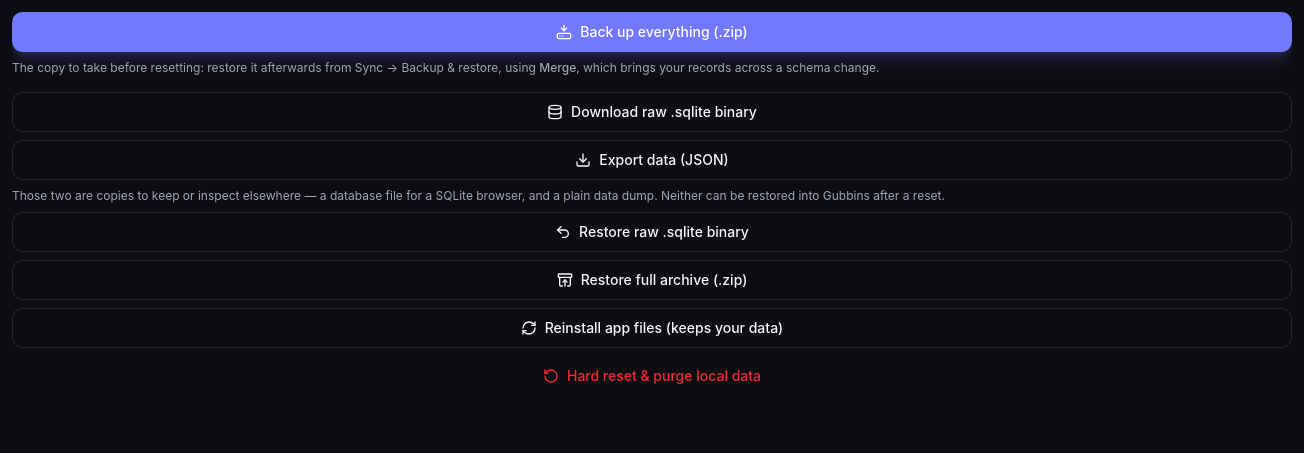
Test case: RescueActions › reports a hard reset that could not complete
Click the button "Hard reset & purge local data".
click(652, 376)  # box [12,356,1292,396]
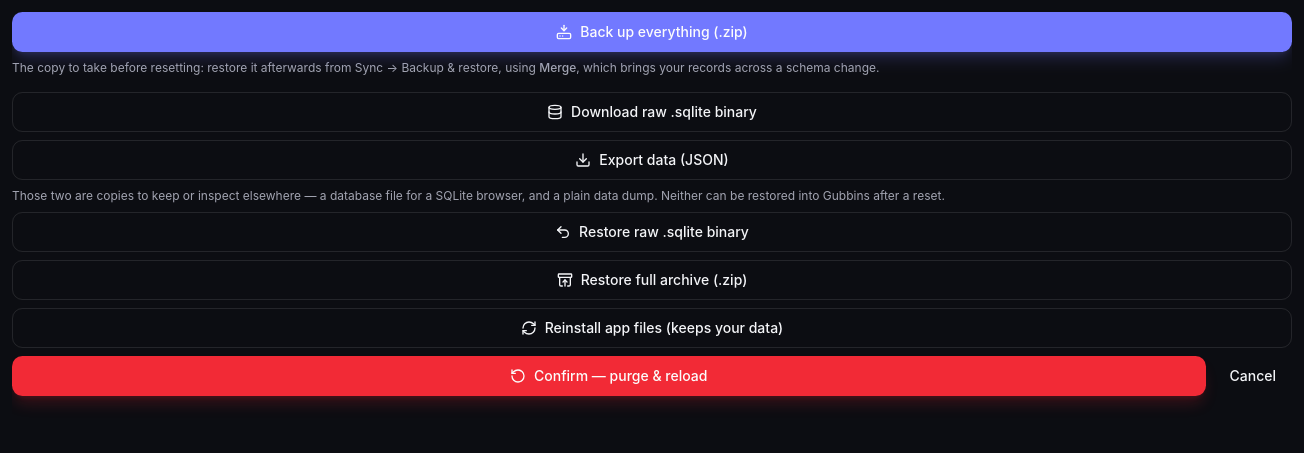
Click the button "Confirm — purge & reload".
click(609, 376)  # box [12,356,1206,396]
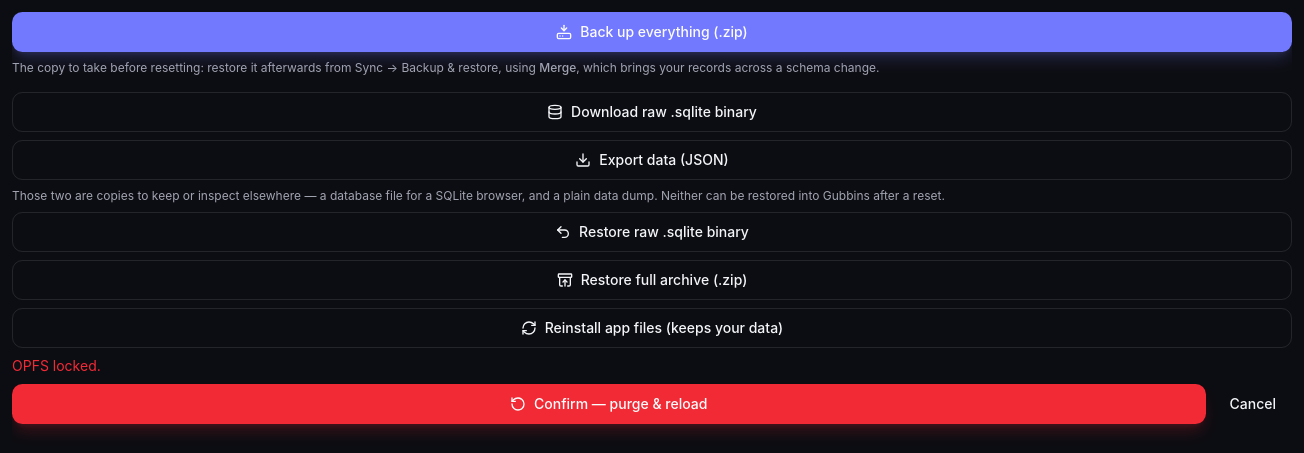
Result: the message reads "OPFS locked." at [12,357,101,374]
